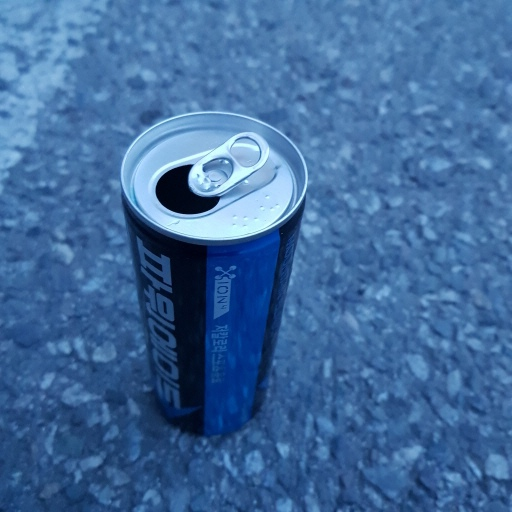Metal_0: (116, 111, 311, 438)
